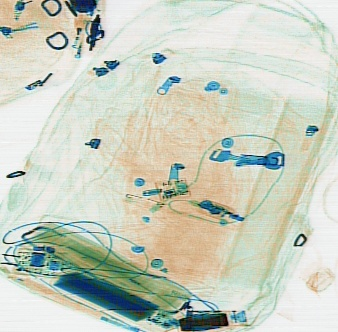lighter: (59, 11, 93, 59)
